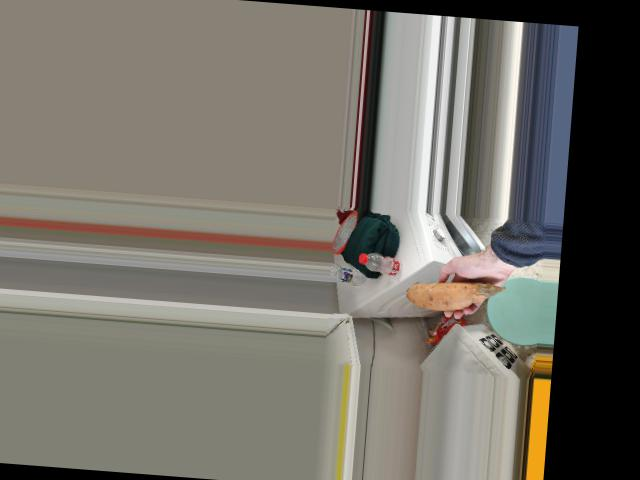sweet_potato: (408, 283, 515, 320)
